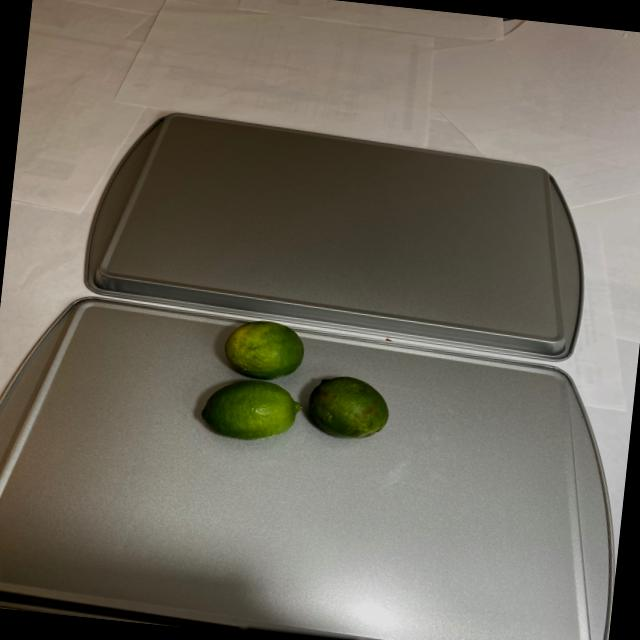lemon: (190, 316, 403, 458)
